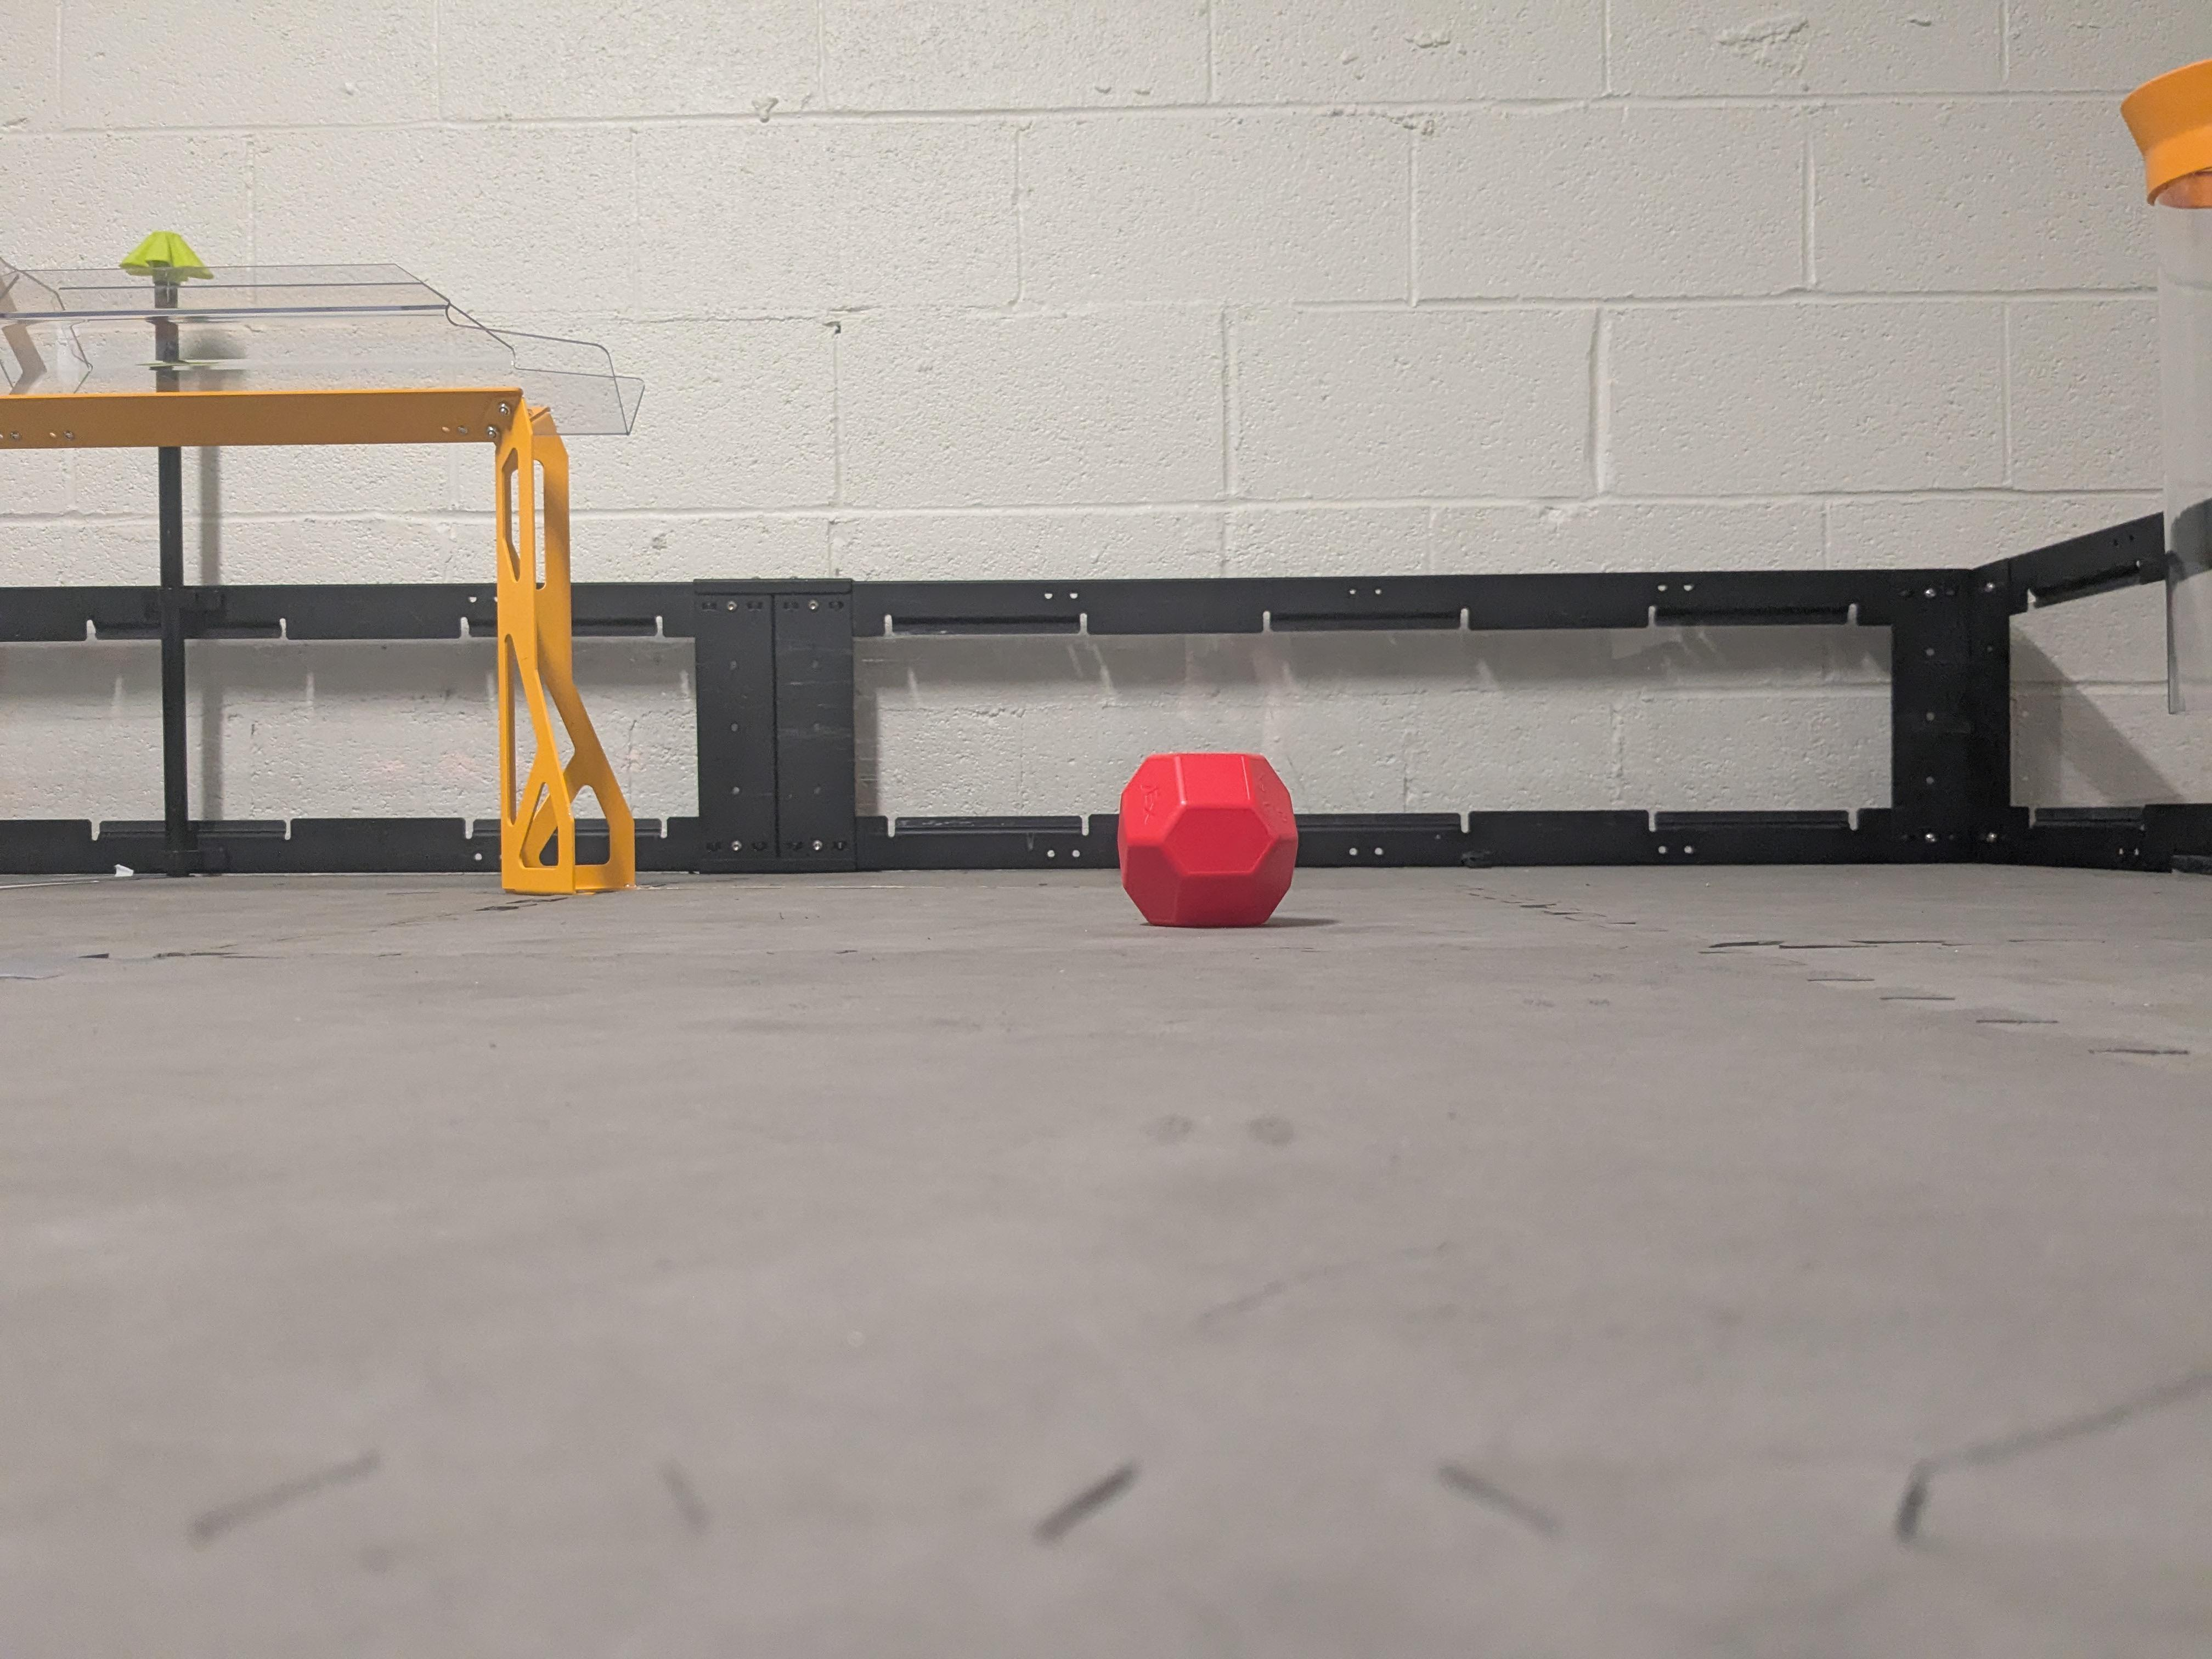Vex-Pieces-RED: (1115, 755, 1296, 927)
